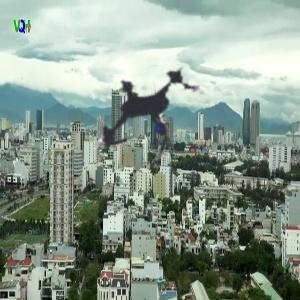drone: (41, 4, 252, 215)
